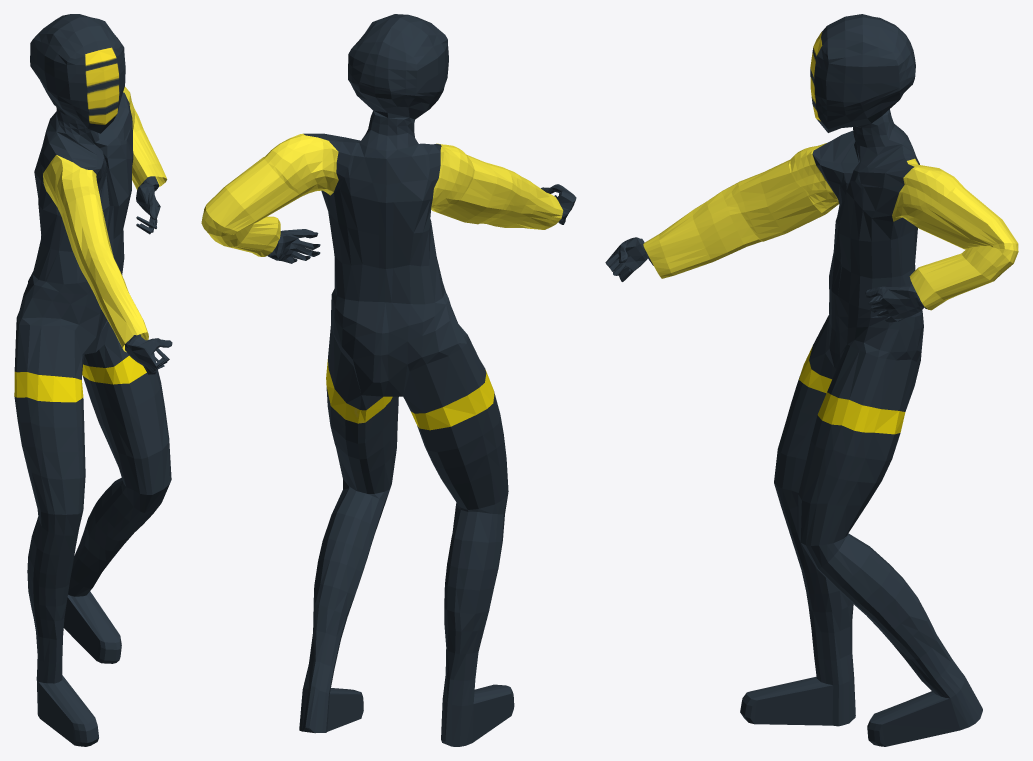
File: Sentry_WF_000010.obj
3 renders of one model, left to right at view 1: azimuth 30°, elevation 25°; view 2: azimuth 150°, elevation 25°; view 3: azimuth 270°, elevation 25°, orthographic. The views are drawn at different scales.
Parts seen in each view (by area): view 1: Cube; view 2: Cube; view 3: Cube.
Boxes of the visible parts, left/top/right/bottom form: Cube: left=14, top=14, right=172, bottom=746; Cube: left=201, top=14, right=576, bottom=746; Cube: left=605, top=14, right=1018, bottom=746.
Size of the model in its own units: 1.16 by 3.84 by 1.98.
